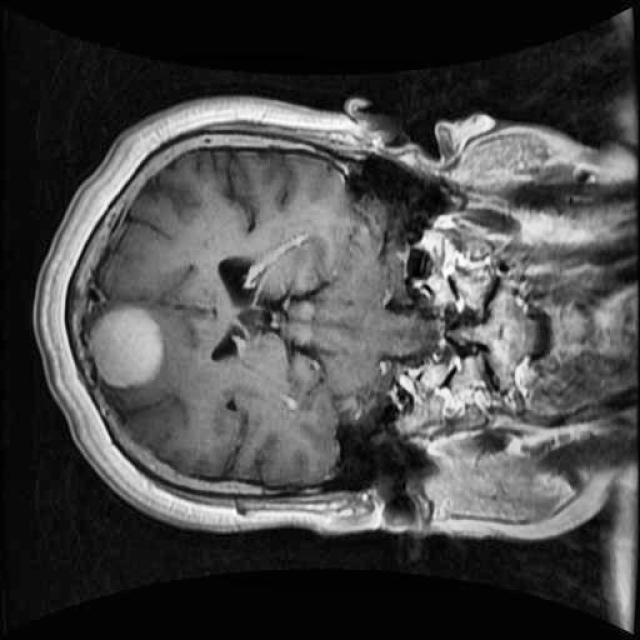Tumor: (83, 294, 168, 395)
